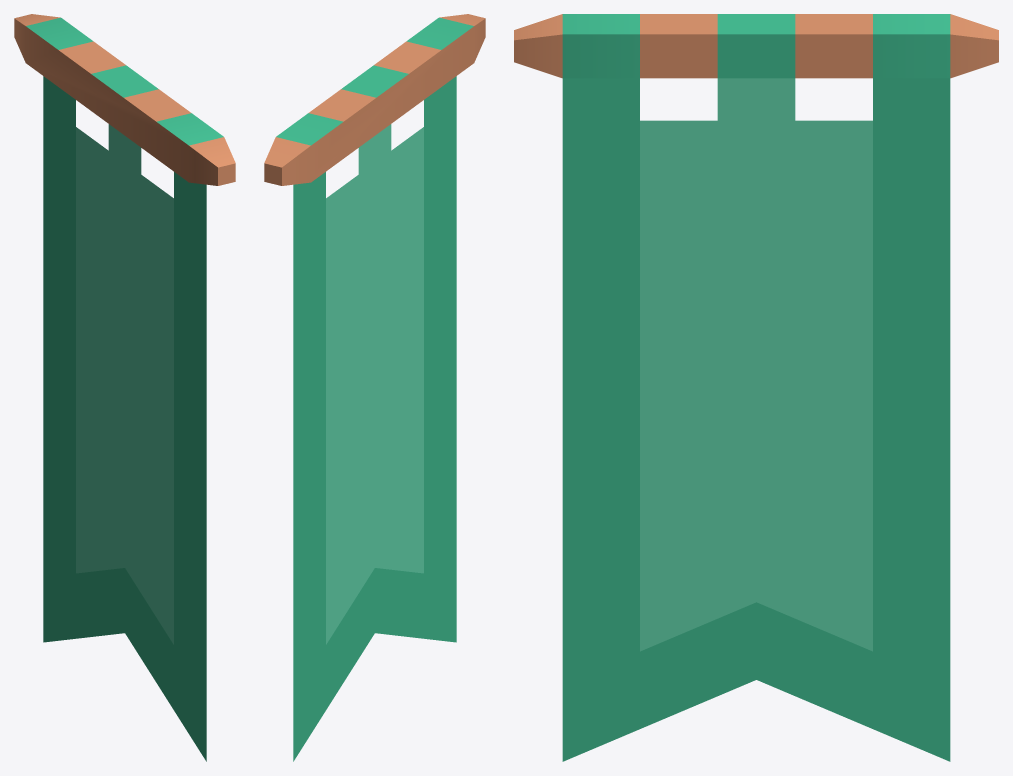
File: bannerGreen.glb
3 renders of one model, left to right at view 1: azimuth 30°, elevation 25°; view 2: azimuth 150°, elevation 25°; view 3: azimuth 270°, elevation 25°, orthographic. The views are drawn at different scales.
Visible parts, largest first — view 1: bannerGreen; view 2: bannerGreen; view 3: bannerGreen.
Boxes of the visible parts, box(x1,y1,x2,y2) form: bannerGreen: box(14, 14, 235, 761); bannerGreen: box(264, 14, 485, 761); bannerGreen: box(514, 14, 998, 761).
Size of the model in its own units: 0.05 by 0.8394 by 0.5.
